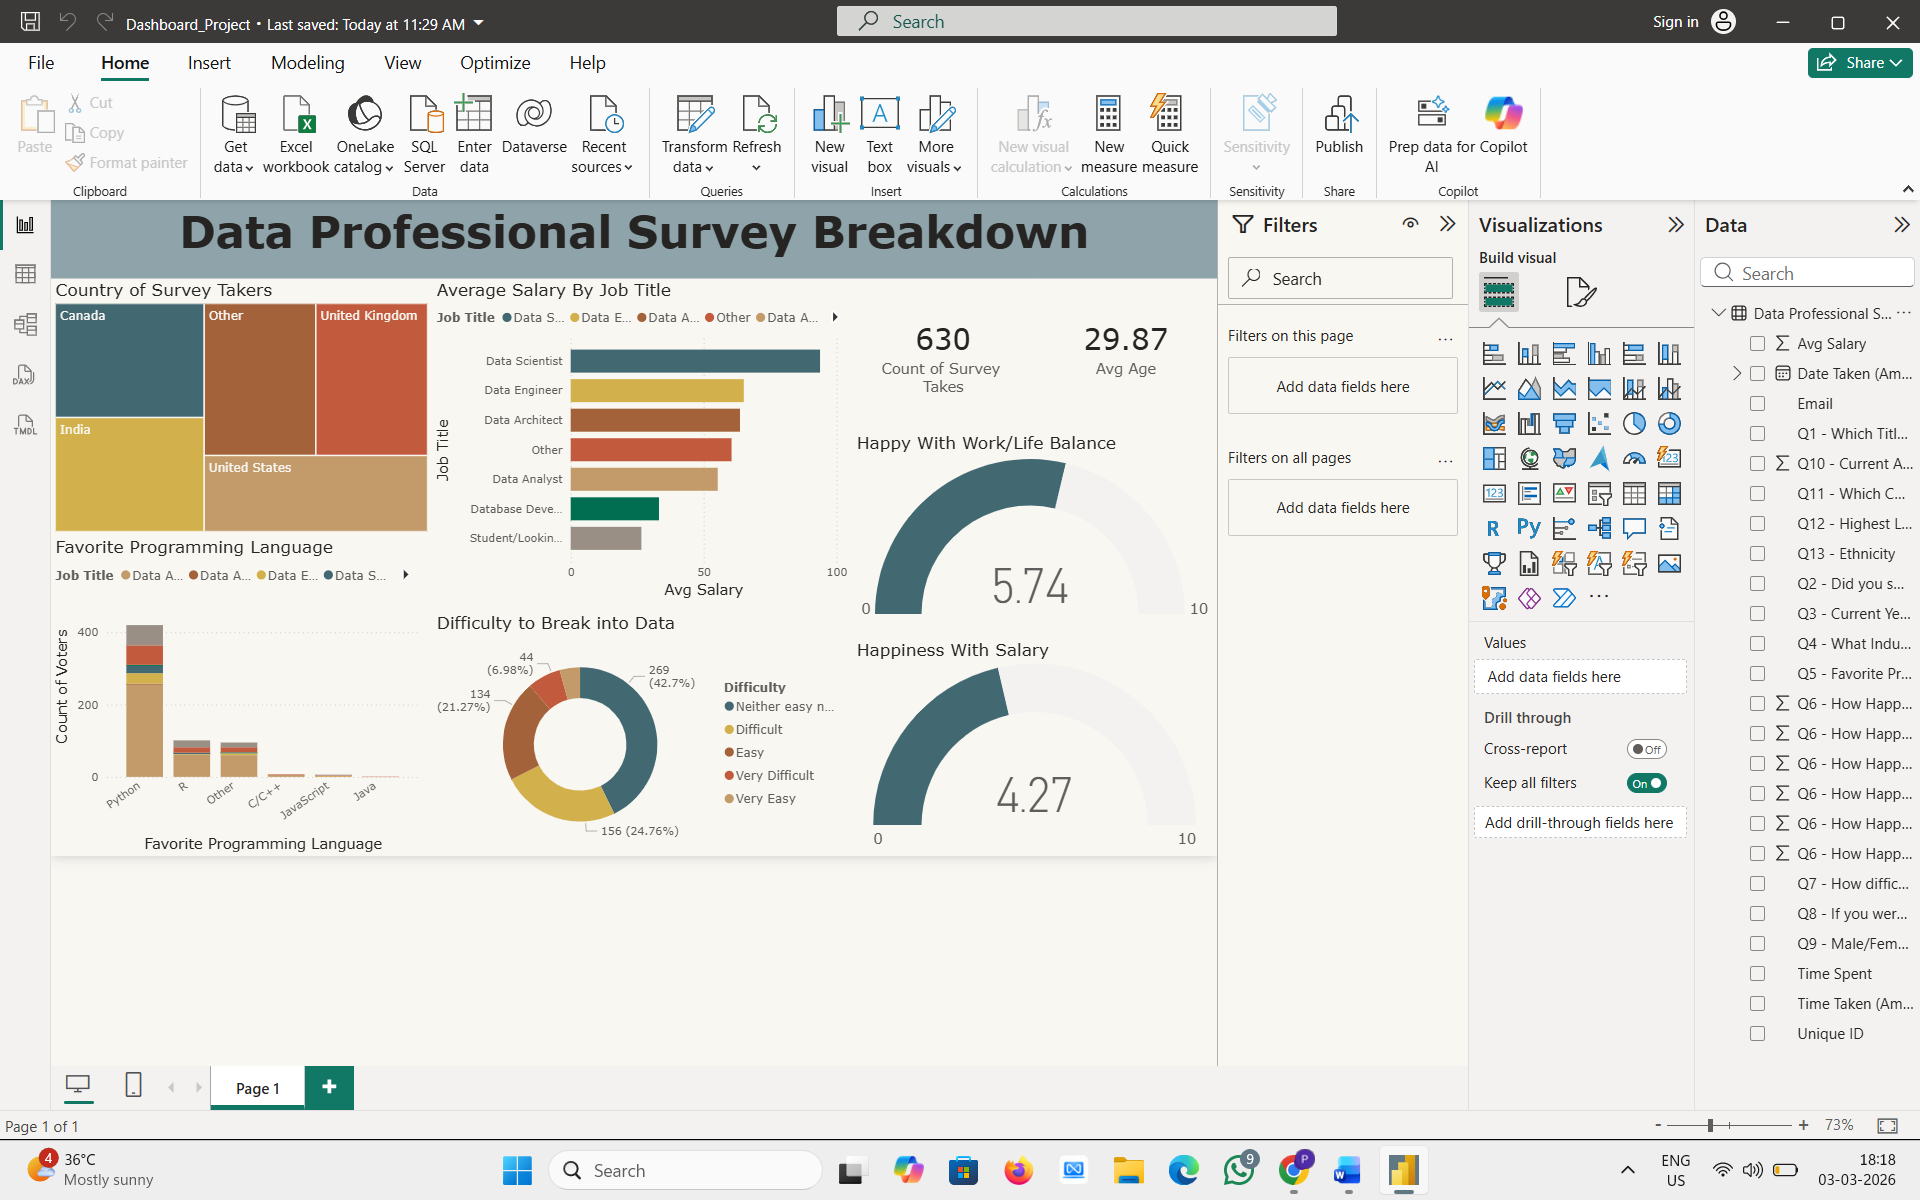

This screenshot's page, from the dashboard's own definition file:
{"tool":"powerbi","page":{"name":"Page 1","canvas":[1280,720],"ordinal":0},"visuals":[{"type":"textbox","box":[0,0,1280.3,86.4],"z":0},{"type":"card","fields":{"Values":["CountNonNull(Data Professional Survey.Unique ID)"]},"box":[879.6,86.4,200.3,150.9],"z":1},{"type":"card","fields":{"Values":["Avg(Data Professional Survey.Q10 - Current Age)"]},"box":[1079.9,86.4,200.3,150.9],"z":2},{"type":"barChart","title":"Average Salary By Job Title","fields":{"Category":["Data Professional Survey.Q1 - Which Title Best Fits your Current Role?.1"],"Y":["Avg(Data Professional Survey.Avg Salary)"],"Series":["Data Professional Survey.Q1 - Which Title Best Fits your Current Role?.1"]},"box":[418.5,86.4,461.1,355.4],"z":3},{"type":"columnChart","title":"Favorite Programming Language","fields":{"Category":["Data Professional Survey.Q5 - Favorite Programming Language.1"],"Y":["CountNonNull(Data Professional Survey.Unique ID)"],"Series":["Data Professional Survey.Q1 - Which Title Best Fits your Current Role?.1"]},"box":[0,369.1,408.9,351.3],"z":4},{"type":"treemap","title":"Country of Survey Takers","fields":{"Values":["Count(Data Professional Survey.Q11 - Which Country do you live in?.1)"],"Group":["Data Professional Survey.Q11 - Which Country do you live in?.1"]},"box":[0,86.4,418.5,282.7],"z":5},{"type":"gauge","title":"Happiness With Salary","fields":{"Y":["Avg(Data Professional Survey.Q6 - How Happy are you in your Current Position with the following? (Salary))"],"MinValue":["Min(Data Professional Survey.Q6 - How Happy are you in your Current Position with the following? (Salary))1"],"MaxValue":["Max(Data Professional Survey.Q6 - How Happy are you in your Current Position with the following? (Management))"]},"box":[879.6,481.6,400.7,238.8],"z":6},{"type":"gauge","title":"Happy With Work/Life Balance","fields":{"Y":["Avg(Data Professional Survey.Q6 - How Happy are you in your Current Position with the following? (Work/Life Balance))"],"MinValue":["Min(Data Professional Survey.Q6 - How Happy are you in your Current Position with the following? (Work/Life Balance))"],"MaxValue":["Max(Data Professional Survey.Q6 - How Happy are you in your Current Position with the following? (Work/Life Balance))1"]},"box":[879.6,255.2,400.7,211.3],"z":7},{"type":"donutChart","title":"Difficulty to Break into Data ","fields":{"Category":["Data Professional Survey.Q7 - How difficult was it for you to break into Data?"],"Y":["CountNonNull(Data Professional Survey.Q7 - How difficult was it for you to break into Data?)"]},"box":[418.5,452.8,461.1,267.6],"z":8}]}

Visuals, with their boxes on the page's 1280x720 design canvas (x1, y1, x2, y2). These are canvas units, not pixel positions in the 1920x1200 screenshot, which may show the page scaled, cropped or inside an application window:
textbox: select_region(0, 0, 1280, 86)
card - CountNonNull(Data Professional Survey.Unique ID): select_region(880, 86, 1080, 237)
card - Avg(Data Professional Survey.Q10 - Current Age): select_region(1080, 86, 1280, 237)
"Average Salary By Job Title" barChart: select_region(418, 86, 880, 442)
"Favorite Programming Language" columnChart: select_region(0, 369, 409, 720)
"Country of Survey Takers" treemap: select_region(0, 86, 418, 369)
"Happiness With Salary" gauge: select_region(880, 482, 1280, 720)
"Happy With Work/Life Balance" gauge: select_region(880, 255, 1280, 466)
"Difficulty to Break into Data " donutChart: select_region(418, 453, 880, 720)
